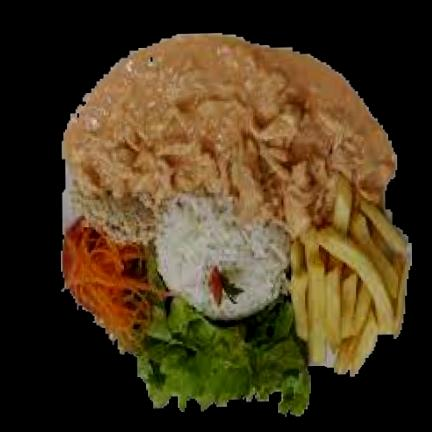carrot: (63, 220, 170, 352)
chicken: (65, 37, 395, 234)
potato: (290, 178, 409, 375)
rice: (156, 195, 290, 321)
salad: (139, 298, 310, 416)
